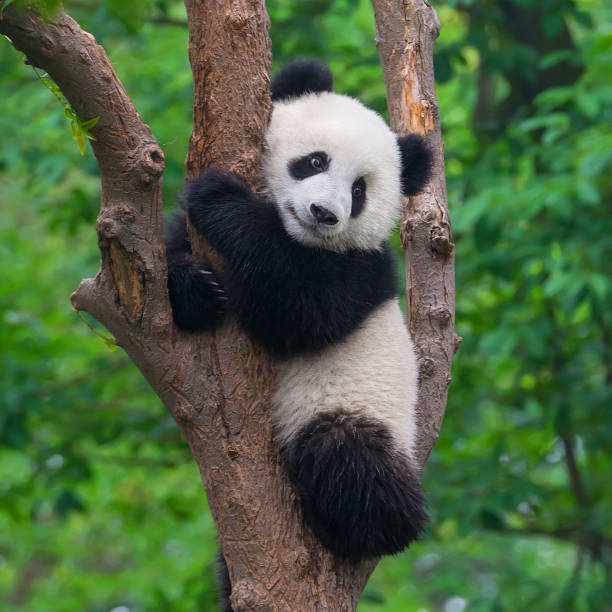panda: (244, 44, 442, 274)
